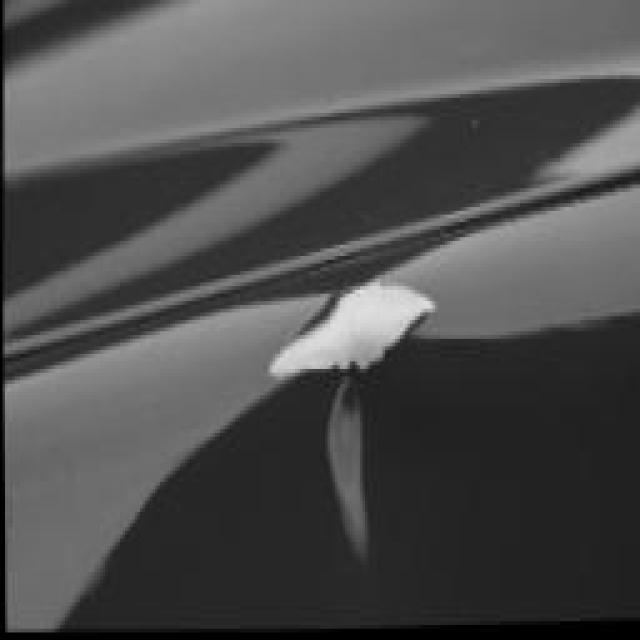Fender: (5, 209, 611, 632)
